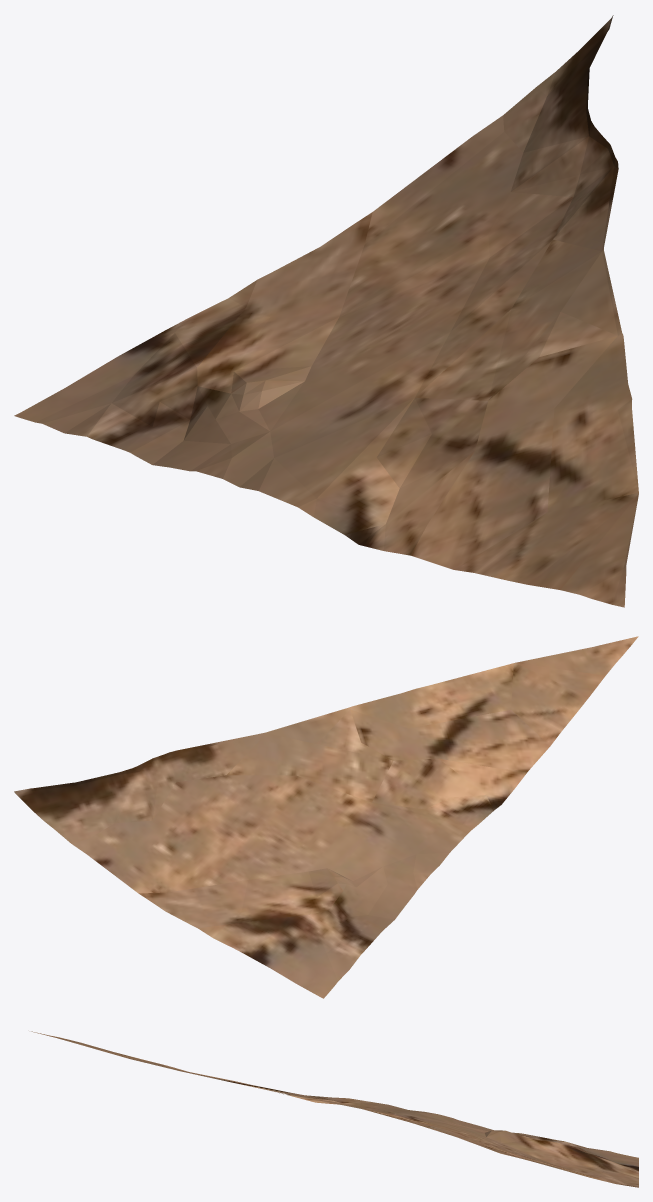
3 views of the same model, one above another, from view 1: azimuth 30°, elevation 25°; view 2: azimuth 150°, elevation 25°; view 3: azimuth 270°, elevation 25° (orthographic). The views are drawn at different scales.
Bounding box in the file's own units: 0.5084 × 0.2068 × 0.8969.
1 material, 1 textured.
